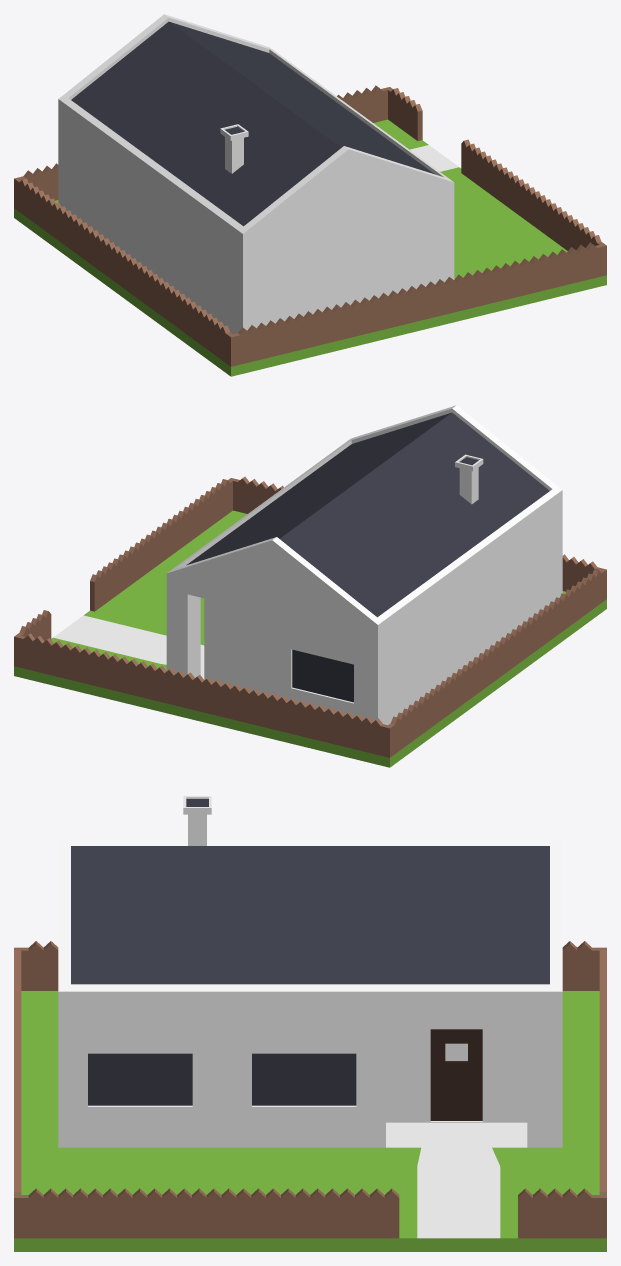
Rendered from house1_w_fence.fbx.
3 renders of one model, top to bottom at view 1: azimuth 30°, elevation 25°; view 2: azimuth 150°, elevation 25°; view 3: azimuth 270°, elevation 25°, orthographic. The views are drawn at different scales.
Parts seen in each view (by area): view 1: house1_w_fence; view 2: house1_w_fence; view 3: house1_w_fence.
Boxes of the visible parts, bbox=[...] form: house1_w_fence: bbox=[14, 14, 606, 376]; house1_w_fence: bbox=[14, 405, 606, 767]; house1_w_fence: bbox=[14, 796, 606, 1251].
Bounding box in the file's own units: 1000 × 465 × 1000.
